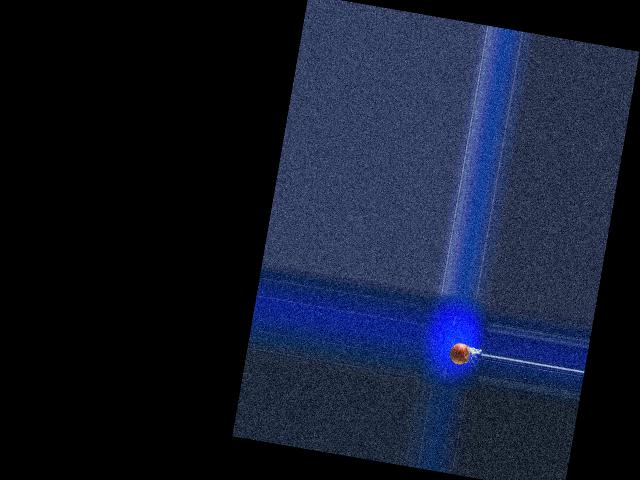tomato: (448, 341, 471, 366)
